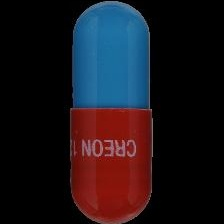17856-1206: (0, 0, 224, 224)
